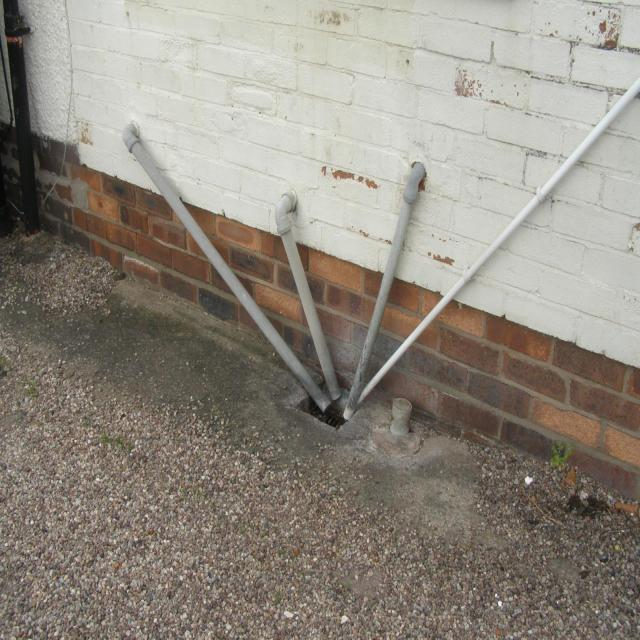loose_pipes: (268, 298, 409, 452)
